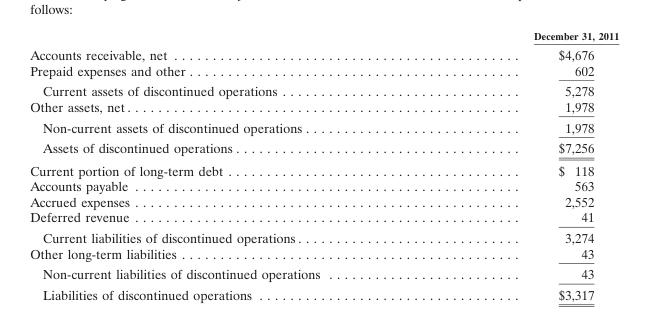table: (29, 28, 618, 302)
table column: (29, 28, 426, 302), (426, 28, 618, 302)
table column header: (29, 28, 618, 43)
table row: (29, 116, 618, 137), (29, 137, 618, 158), (29, 158, 618, 178), (29, 263, 618, 283), (29, 43, 618, 62), (29, 283, 618, 302), (29, 62, 618, 80), (29, 80, 618, 98), (29, 98, 618, 116), (29, 209, 618, 227), (29, 227, 618, 245), (29, 245, 618, 263), (29, 193, 618, 209), (29, 28, 618, 43), (29, 178, 618, 193)
